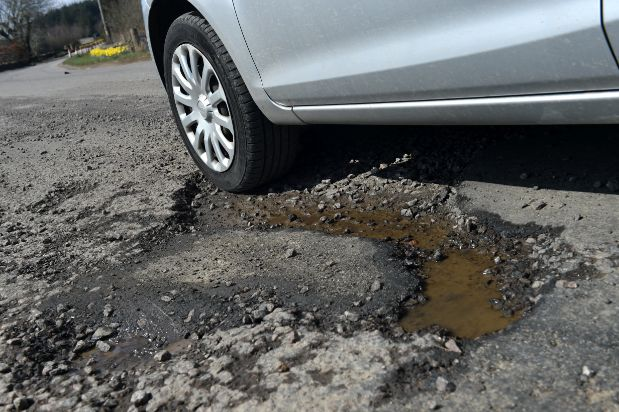pothole: (159, 181, 589, 349)
